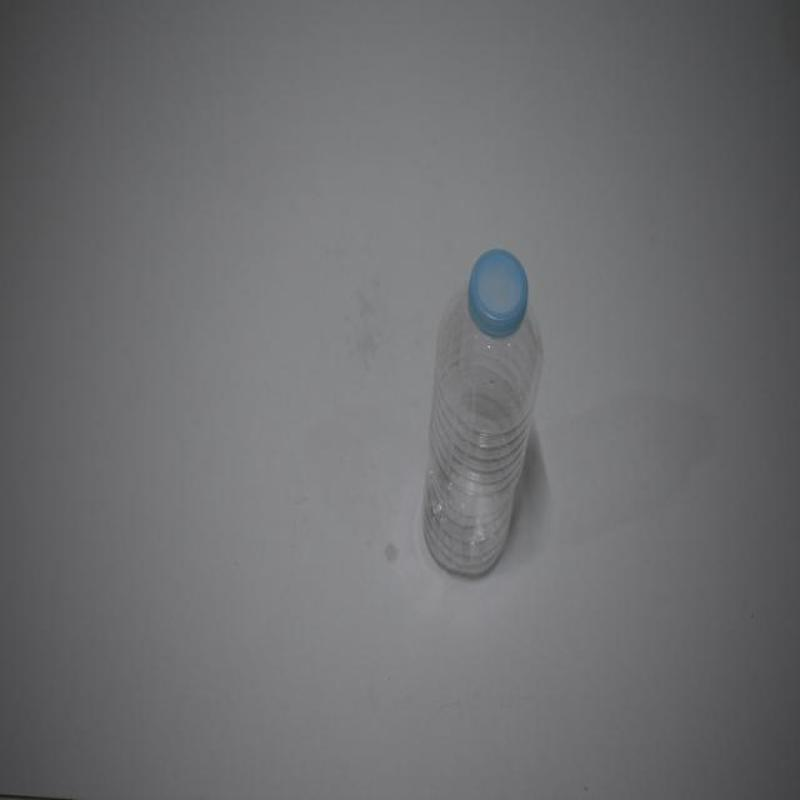botella: (424, 253, 546, 582)
